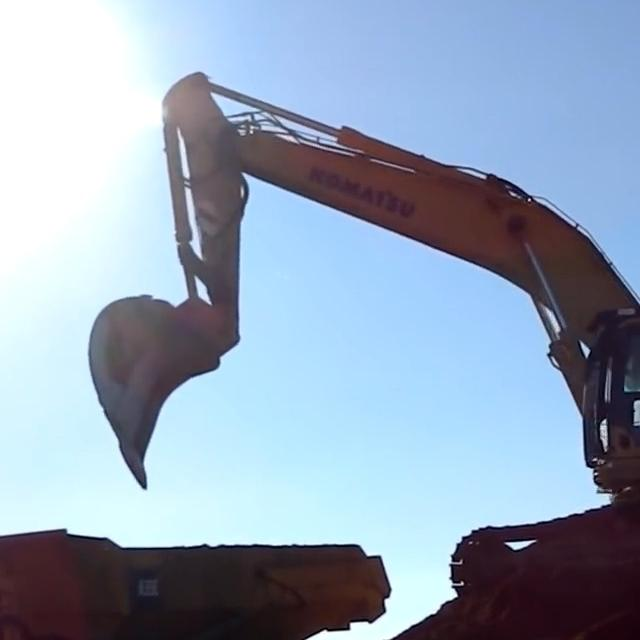Excavator: (90, 70, 640, 599)
dump truck: (0, 522, 390, 640)
